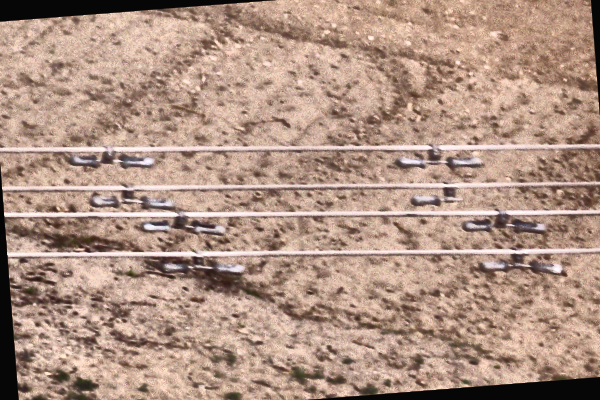damper: (153, 243, 247, 278), (478, 242, 567, 276), (391, 139, 485, 170), (87, 180, 177, 211), (138, 206, 226, 237), (458, 205, 547, 235), (66, 142, 157, 170)
damper_defect: (406, 178, 466, 208)
